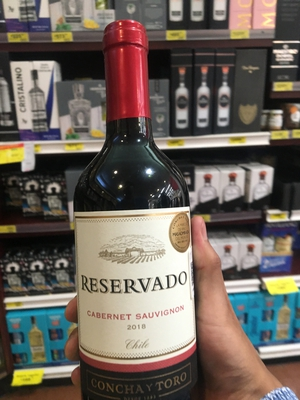reservado cabernet sauvignon: (73, 20, 201, 400)
